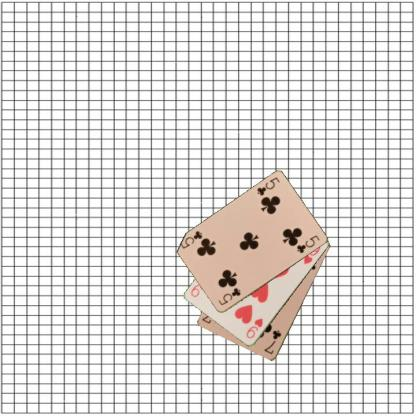5c: (254, 175, 281, 197), (216, 285, 242, 307)
7c: (262, 328, 282, 356)
9h: (244, 316, 264, 340)
